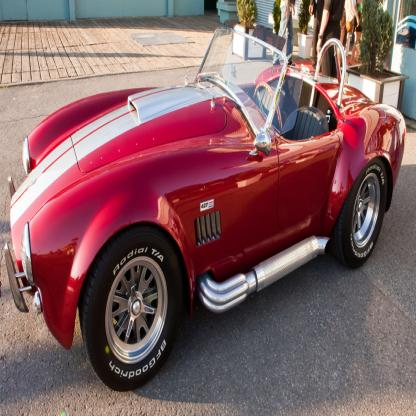Car: (6, 24, 407, 396)
